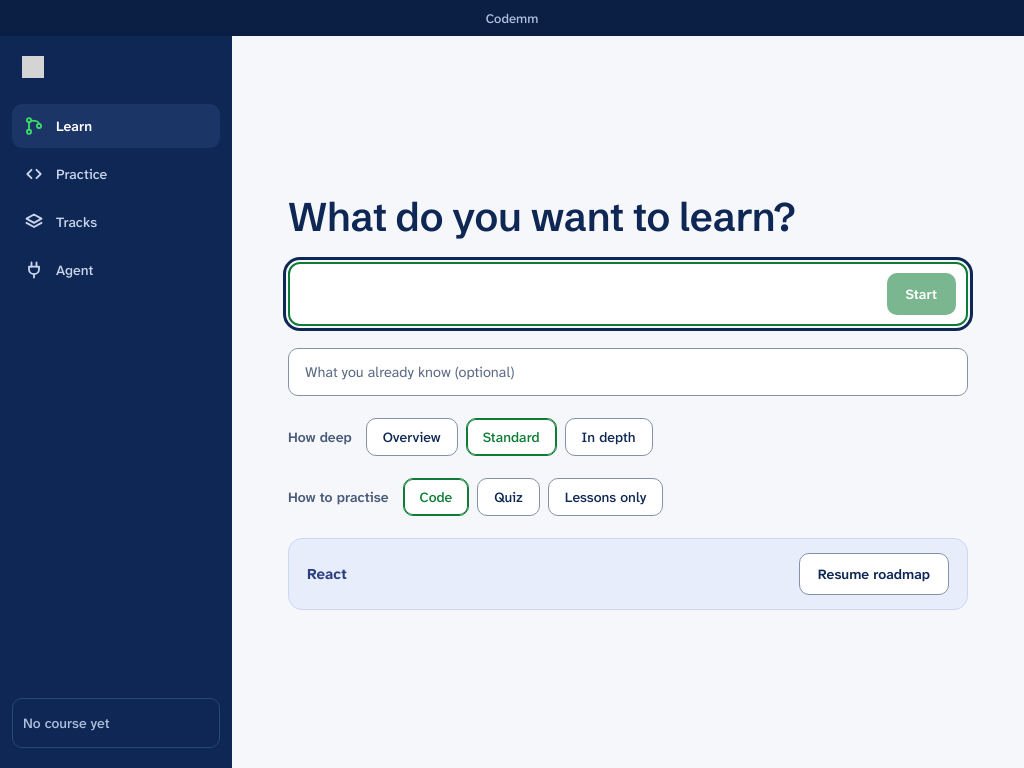
Test: resuming a roadmap › offers the roadmap that is not approved yet, and opens it with its edits
The width and height of the screenshot is (1024, 768).
Click the button "Resume roadmap". click: (874, 574)
box: 799,553 -> 949,595
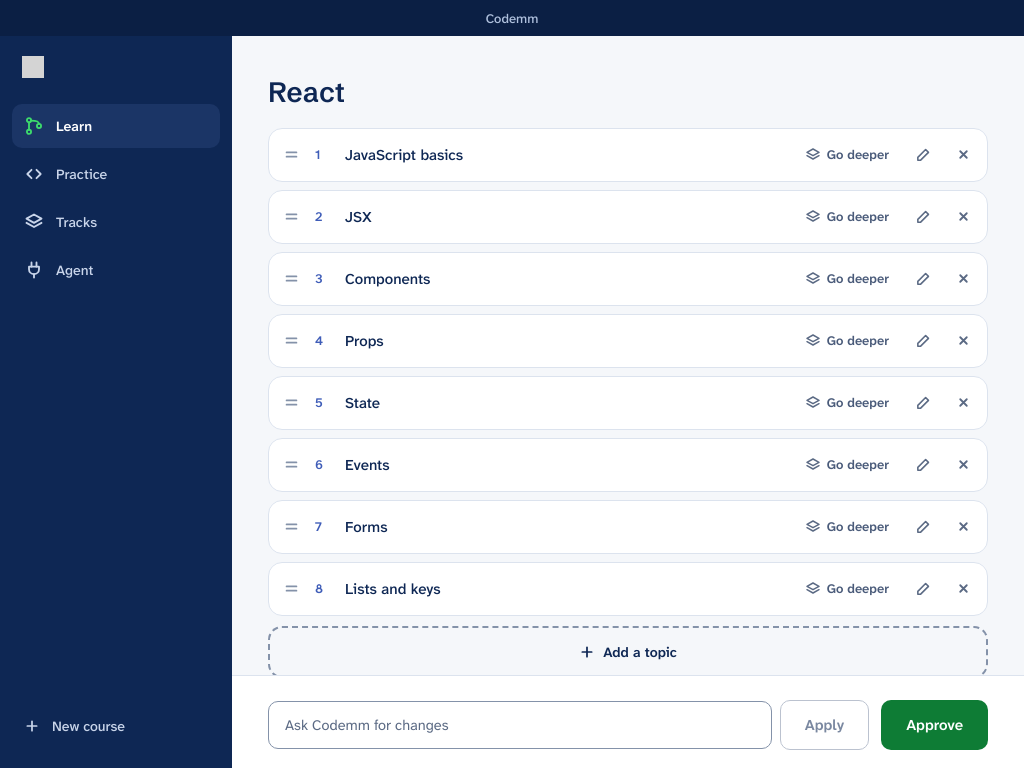
Expected: the button "Approve" is shown, 881,700 -> 988,750
